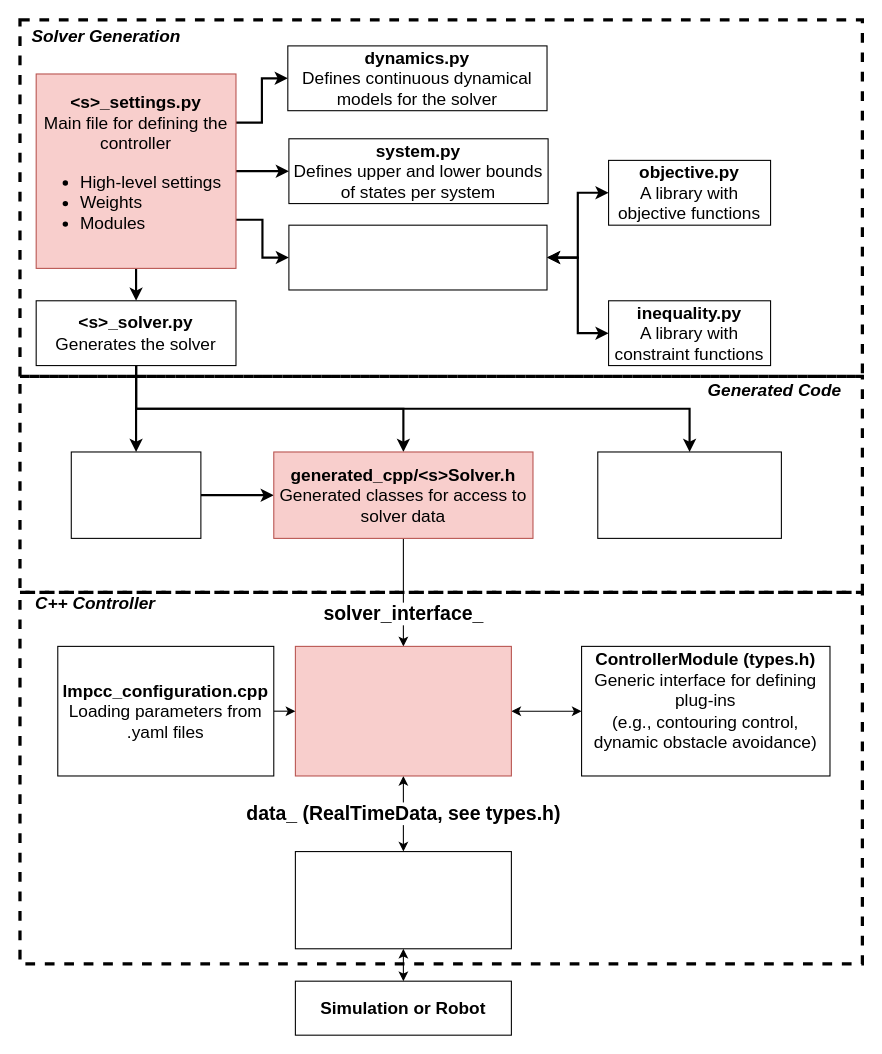
This 882x1054 diagram has some shape labels left out. Each missing label, with the box of its shape:
<env>_interface.cpp Read sensor data, actuate the system: (294, 850, 511, 949)
control_modules.py A library with plugins for the MPC: (288, 224, 547, 290)
lmpcc_controller.cpp Main controller file: (294, 645, 511, 776)
Solver library: (70, 451, 201, 538)
SolverDefinitions.h Header defining what solver to pick: (597, 451, 781, 538)
